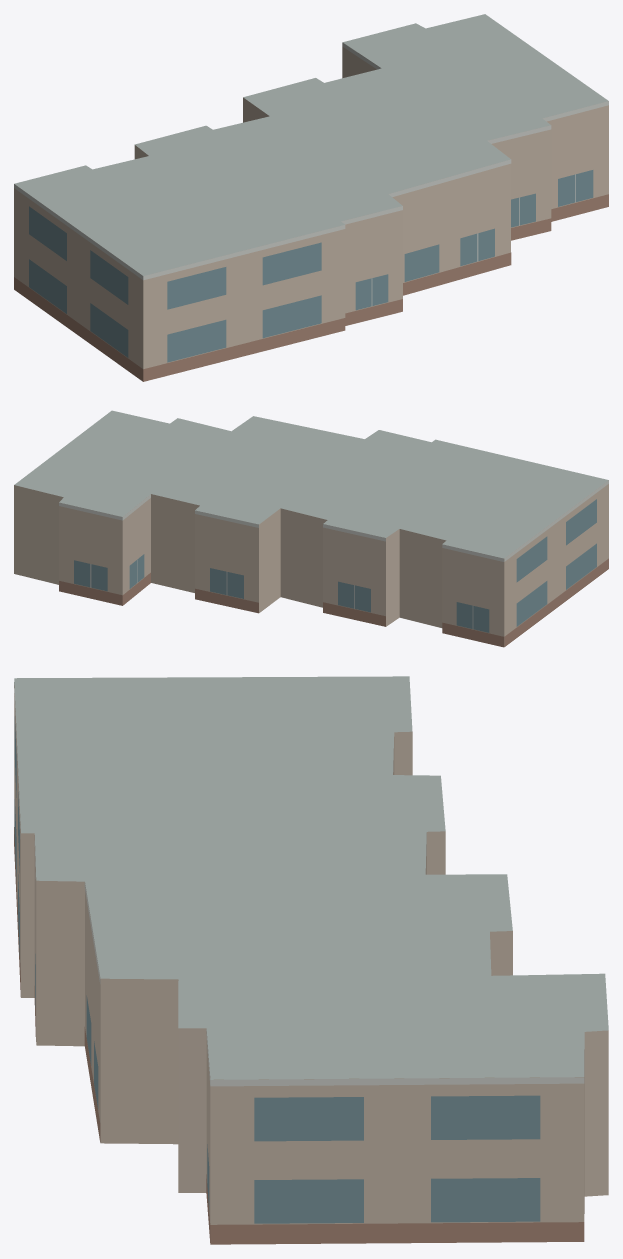
File: survey-upis-32461974.glb
The picture shows the model from 3 angles, top to bottom: view 1: azimuth 30°, elevation 25°; view 2: azimuth 150°, elevation 25°; view 3: azimuth 270°, elevation 25°; orthographic projection. The views are drawn at different scales.
Parts seen in each view (by area): view 1: survey-upis-32461974.tmp; view 2: survey-upis-32461974.tmp; view 3: survey-upis-32461974.tmp.
Part boxes in pixels (x1=…): survey-upis-32461974.tmp: x1=14, y1=14, x2=608, y2=381; survey-upis-32461974.tmp: x1=14, y1=410, x2=608, y2=647; survey-upis-32461974.tmp: x1=14, y1=676, x2=608, y2=1244.
Size of the model in its own units: 32.05 by 6.1 by 19.97.
